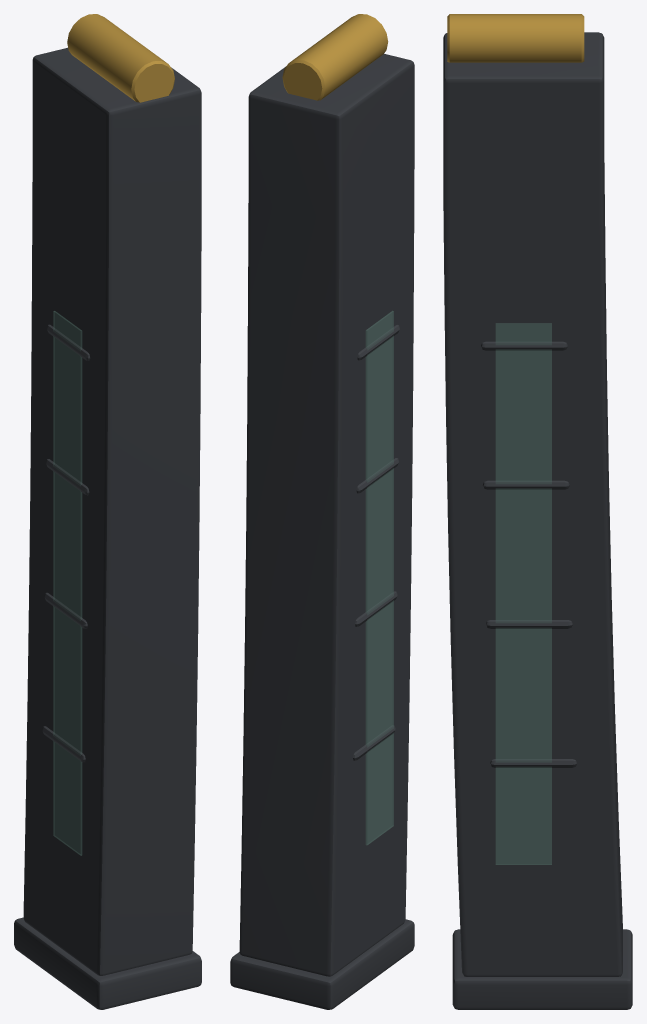
Rendered from mod_mastiff_extended_mag.glb.
3 views of the same model, side by side, from view 1: azimuth 30°, elevation 25°; view 2: azimuth 150°, elevation 25°; view 3: azimuth 270°, elevation 25° (orthographic). The views are drawn at different scales.
Parts seen in each view (by area): view 1: Magazine, MagazineWindow, MagazineRound; view 2: Magazine, MagazineWindow, MagazineRound; view 3: Magazine, MagazineWindow, MagazineRound.
Part boxes in pixels (bbox=[...]): Magazine: bbox=[14, 47, 201, 1009]; MagazineWindow: bbox=[53, 311, 82, 855]; MagazineRound: bbox=[67, 14, 174, 102]; Magazine: bbox=[230, 53, 414, 1009]; MagazineWindow: bbox=[365, 311, 393, 845]; MagazineRound: bbox=[282, 14, 388, 100]; Magazine: bbox=[443, 32, 632, 1009]; MagazineWindow: bbox=[495, 323, 551, 864]; MagazineRound: bbox=[447, 14, 584, 62].
Bounding box in the file's own units: 0.0264 × 0.2258 × 0.04.
